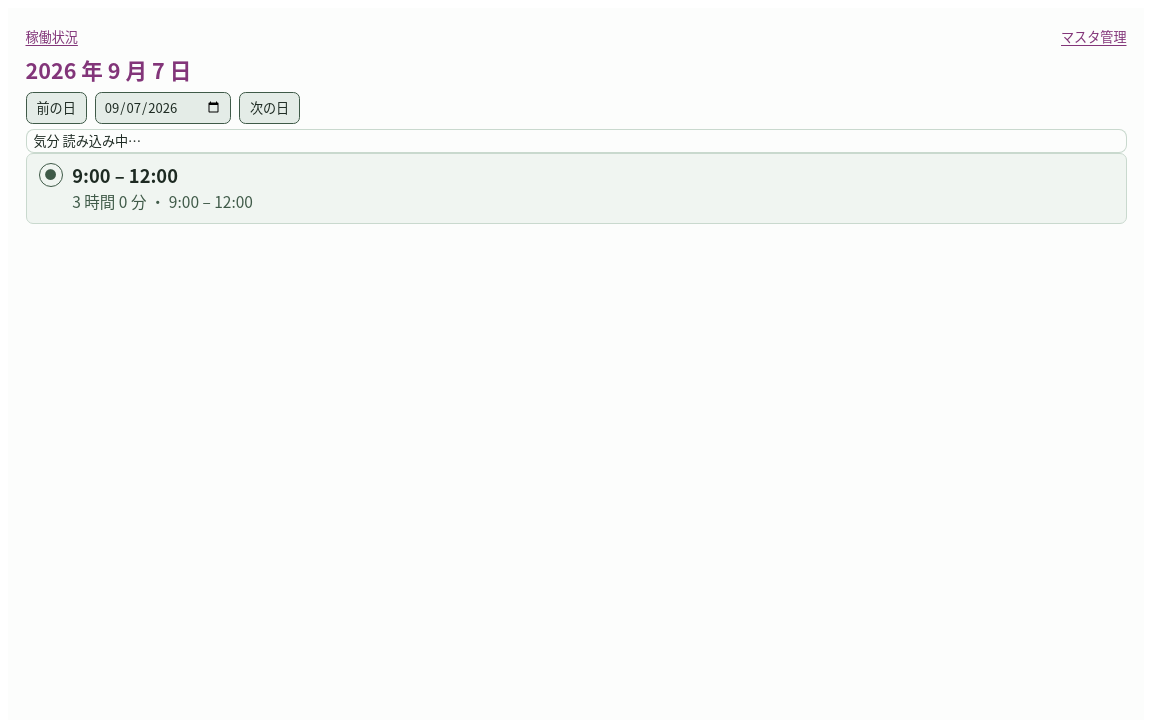
Test: 畳んだ行 › 畳んだ行を開くと 23 件が時刻と題名つきで時刻順に出る
This screenshot has width=1152, height=720.
Click the button "9:00 – 12:00 3 時間 0 分 ・ 9:00 – 12:00": (125,175) [72,163,1114,214]
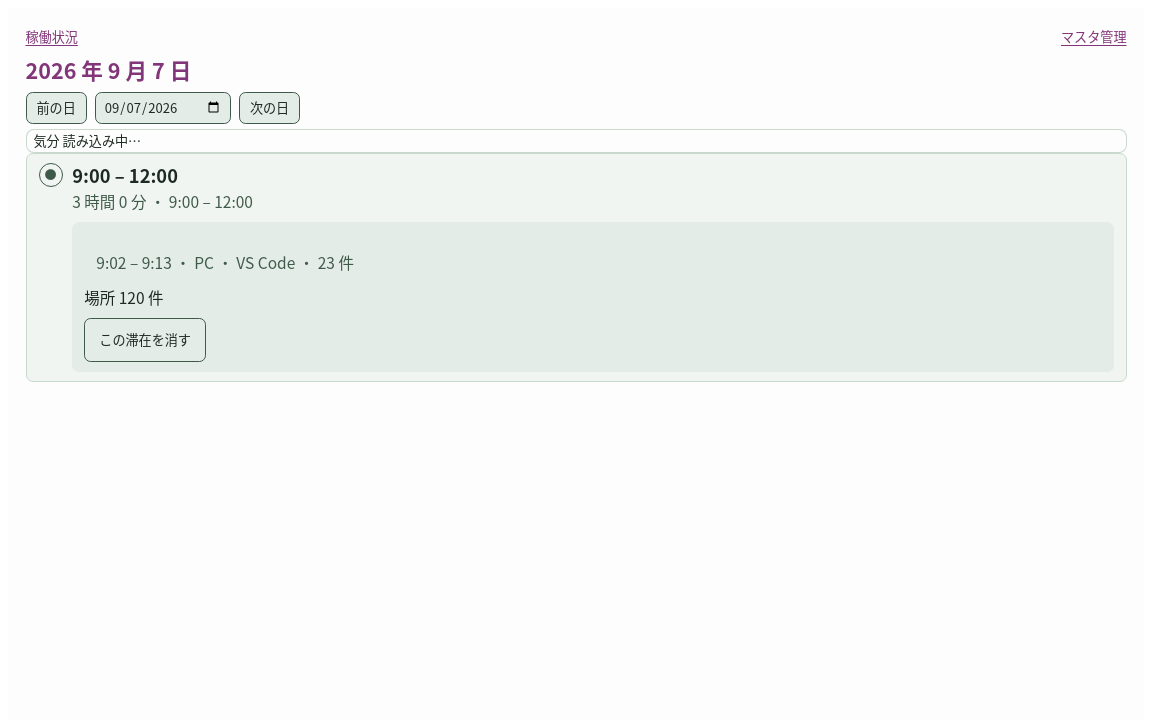
Now the list with test id "records" is shown, box [84,239,1102,284]
Click the button "9:02 – 9:13 ・ PC ・ VS Code ・ 23 件": (225,262) [96,248,1090,275]
(page scrolled)
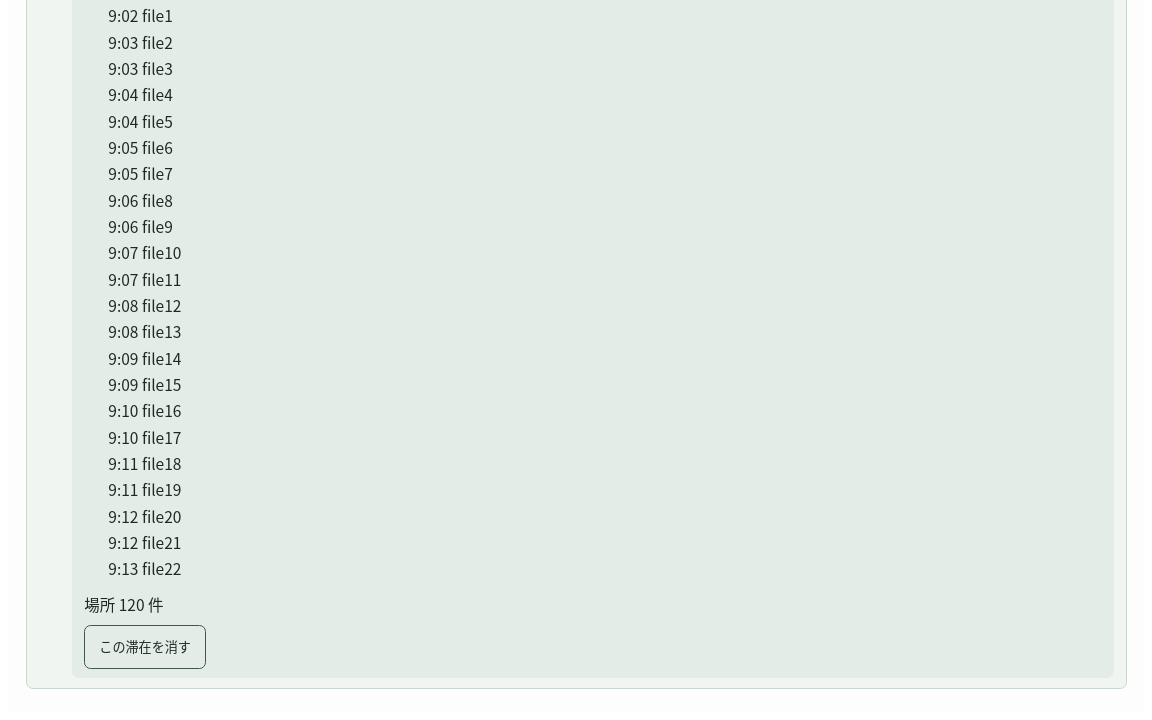
Now the list item "9:13 file22" is shown, box [108,557,181,579]
